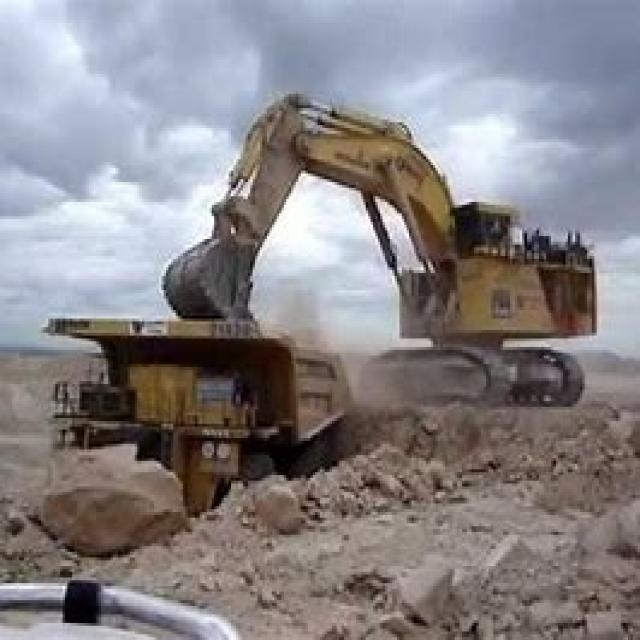dump_truck: (36, 302, 390, 538)
excavator: (161, 77, 599, 412)
